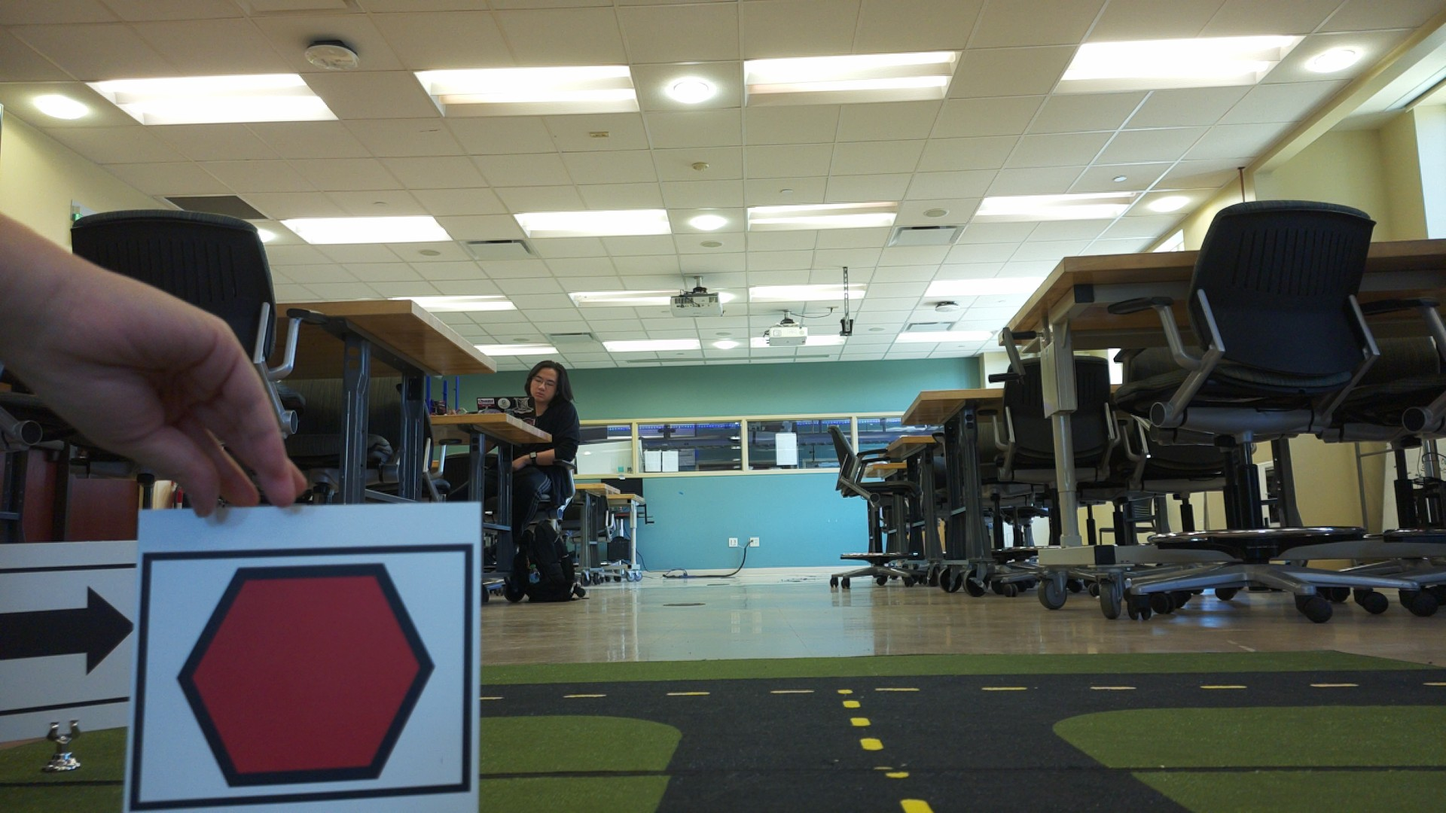stop: (163, 551, 454, 800)
turnright: (1, 574, 133, 699)
yellowline: (845, 699, 934, 813)
